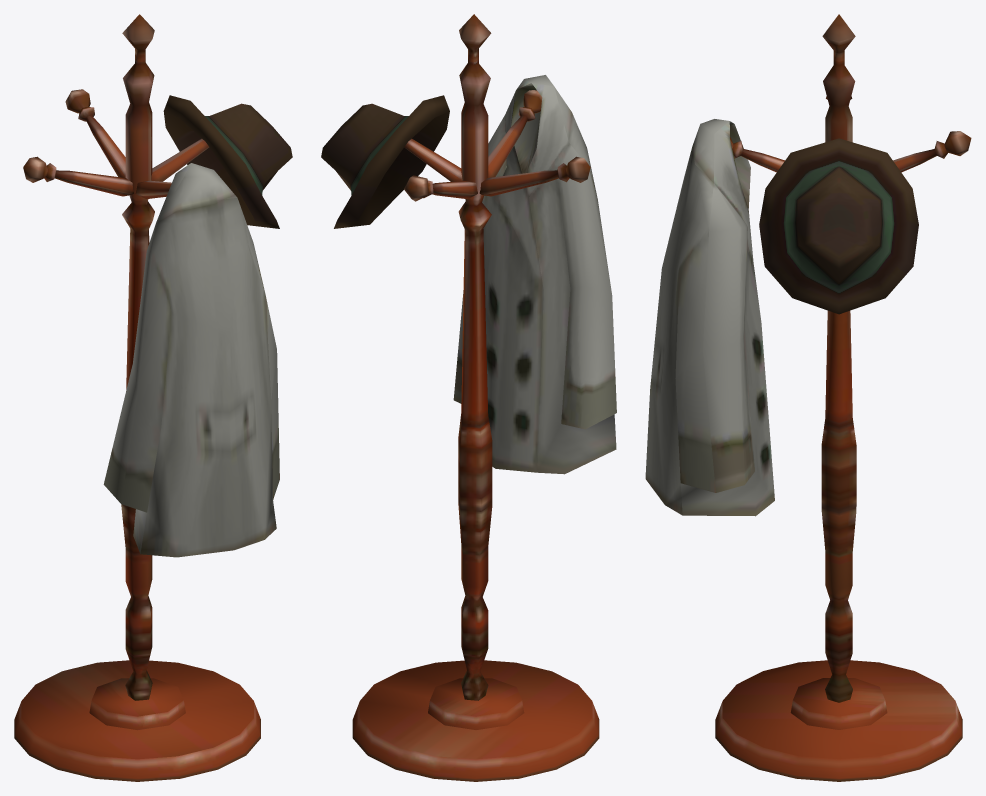
File: int_oth_coathanger.dae
The picture shows the model from 3 angles, left to right: view 1: azimuth 30°, elevation 25°; view 2: azimuth 150°, elevation 25°; view 3: azimuth 270°, elevation 25°; orthographic projection.
Visible parts, largest first — view 1: int_oth_coathanger; view 2: int_oth_coathanger; view 3: int_oth_coathanger.
Boxes of the visible parts, bbox=[...] form: int_oth_coathanger: bbox=[14, 14, 292, 781]; int_oth_coathanger: bbox=[321, 14, 616, 781]; int_oth_coathanger: bbox=[645, 14, 971, 781].
Size of the model in its own units: 24.5 by 63.54 by 26.22.
1 material, 1 textured.
